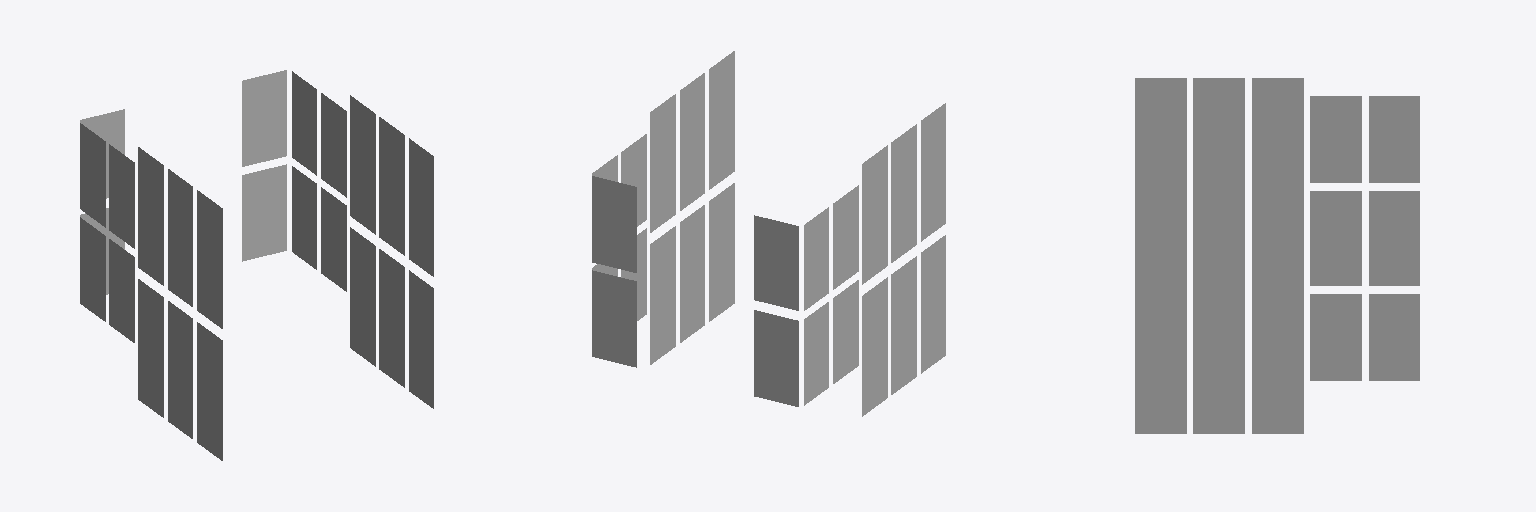
File: S13_AFN_10.OBJ
The picture shows the model from 3 angles: view 1: azimuth 30°, elevation 25°; view 2: azimuth 150°, elevation 25°; view 3: azimuth 270°, elevation 25°; orthographic projection.
Parts seen in each view (by area): view 1: s13_afn_10_0; view 2: s13_afn_10_0; view 3: s13_afn_10_0.
Boxes of the visible parts, <box> form: s13_afn_10_0: <box>80,70,433,460</box>; s13_afn_10_0: <box>592,51,945,416</box>; s13_afn_10_0: <box>1135,78,1419,433</box>.
Size of the model in its own units: 502 by 573 by 595.